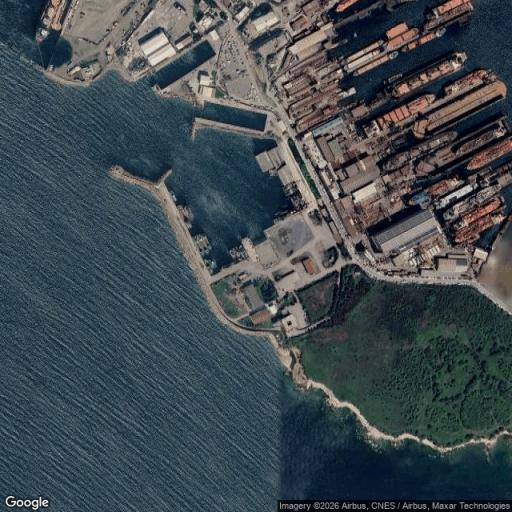ship: (413, 80, 506, 138), (388, 52, 467, 97), (383, 131, 457, 171), (443, 183, 504, 223), (376, 94, 435, 129), (422, 2, 473, 33), (467, 137, 511, 170), (36, 0, 70, 42), (454, 214, 503, 243), (455, 128, 506, 155), (444, 70, 496, 95), (385, 23, 419, 51), (463, 199, 500, 224), (344, 40, 383, 63), (354, 54, 391, 76), (432, 0, 471, 17), (425, 179, 461, 196), (402, 33, 435, 51), (178, 205, 194, 229), (194, 234, 211, 256), (230, 245, 247, 262), (335, 0, 359, 12), (339, 87, 355, 99), (385, 73, 403, 83), (436, 27, 446, 37), (389, 51, 398, 59)
